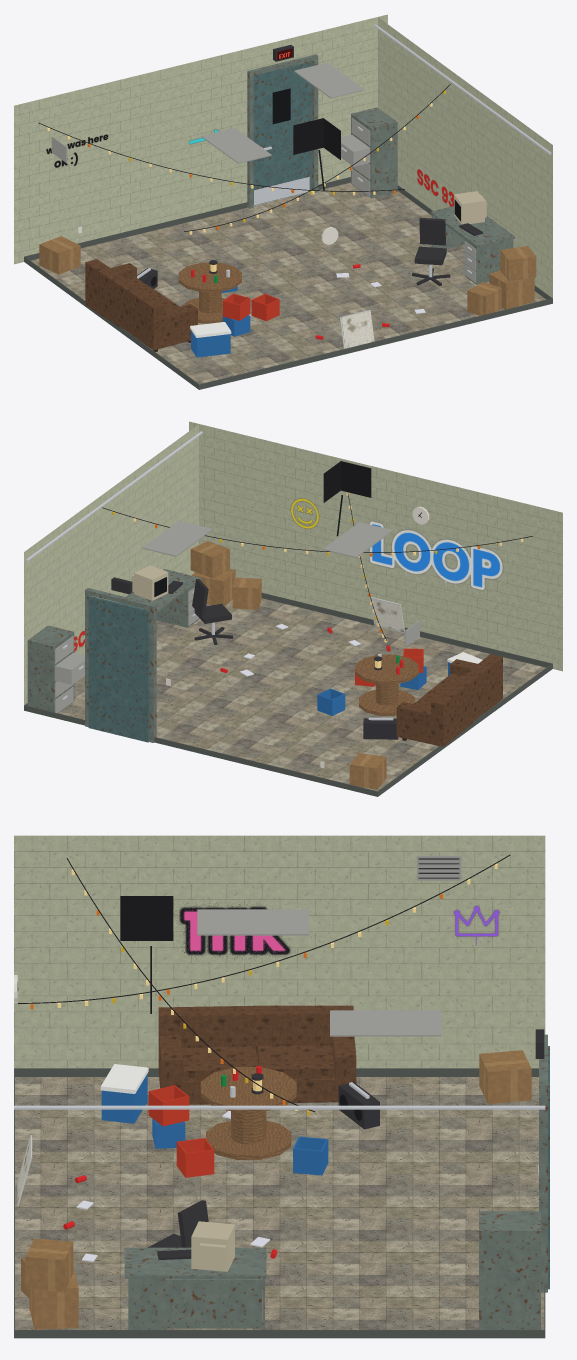
Rendered from office.glb.
3 views of the same model, one above another, from view 1: azimuth 30°, elevation 25°; view 2: azimuth 150°, elevation 25°; view 3: azimuth 270°, elevation 25° (orthographic). The views are drawn at different scales.
Parts seen in each view (by area): view 1: wall_block, floor_vct, props, metal_grey, fabric_couch, metal_teal, cardboard, wood, ceiling_tile, graffiti, glow; view 2: wall_block, floor_vct, props, metal_teal, metal_grey, fabric_couch, graffiti, cardboard, wood, ceiling_tile; view 3: wall_block, floor_vct, props, metal_grey, fabric_couch, cardboard, wood, graffiti, glow.
Boxes of the visible parts, x1,y1,x2,y2 form: wall_block: [14, 14, 552, 297]; floor_vct: [31, 182, 545, 384]; props: [24, 24, 552, 389]; metal_grey: [247, 54, 514, 284]; fabric_couch: [85, 259, 197, 350]; metal_teal: [253, 61, 311, 205]; cardboard: [39, 236, 536, 315]; wood: [178, 262, 241, 323]; ceiling_tile: [339, 310, 374, 348]; graffiti: [46, 129, 453, 206]; glow: [47, 90, 445, 271]; wall_block: [24, 421, 562, 704]; floor_vct: [58, 598, 545, 791]; props: [24, 431, 552, 796]; metal_teal: [88, 596, 149, 742]; metal_grey: [27, 569, 201, 742]; fabric_couch: [396, 654, 502, 746]; graffiti: [74, 498, 503, 651]; cardboard: [190, 541, 386, 789]; wood: [355, 654, 418, 715]; ceiling_tile: [370, 597, 404, 633]; wall_block: [14, 835, 545, 1068]; floor_vct: [15, 1077, 544, 1329]; props: [14, 854, 545, 1338]; metal_grey: [124, 1034, 547, 1329]; fabric_couch: [158, 1005, 356, 1104]; cardboard: [21, 1050, 531, 1329]; wood: [200, 1067, 296, 1159]; graffiti: [174, 902, 499, 958]; glow: [30, 863, 497, 1115].
Bounding box in the file's own units: 7.4 × 3.6 × 6.2.
Materials: 13 (13 with a texture image).
